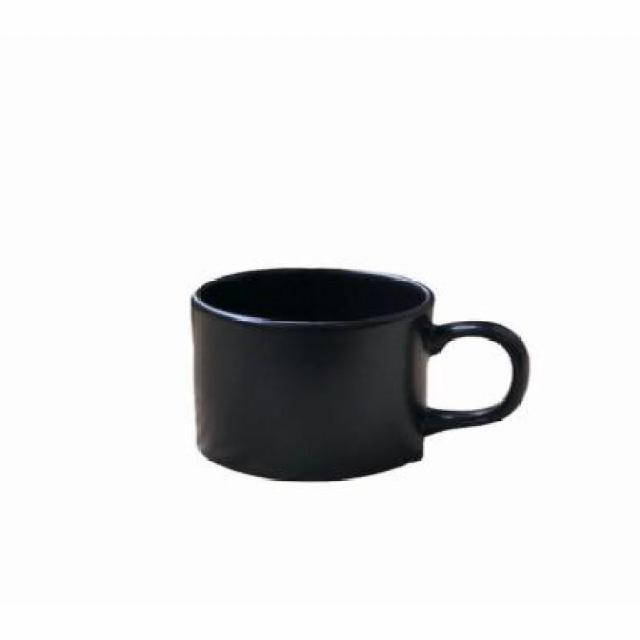taza: (167, 250, 536, 490)
